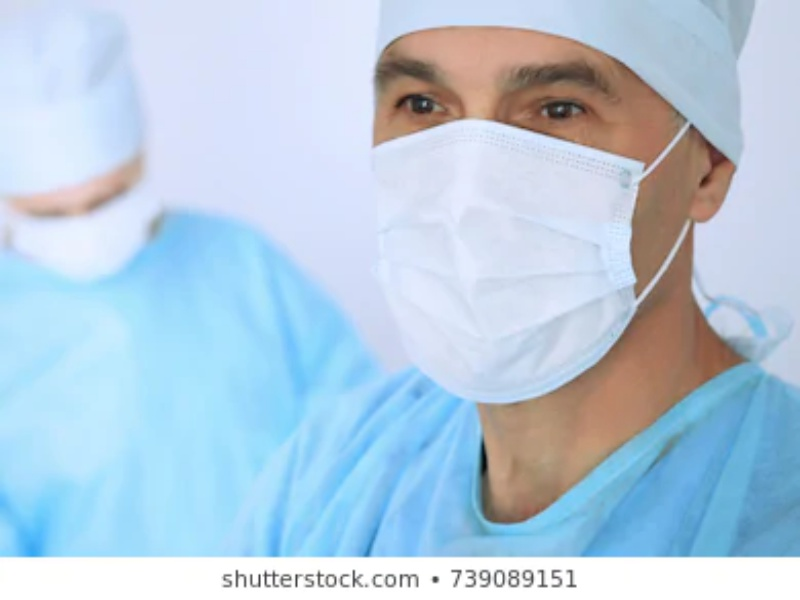ManaoArotava: (340, 1, 689, 456)
